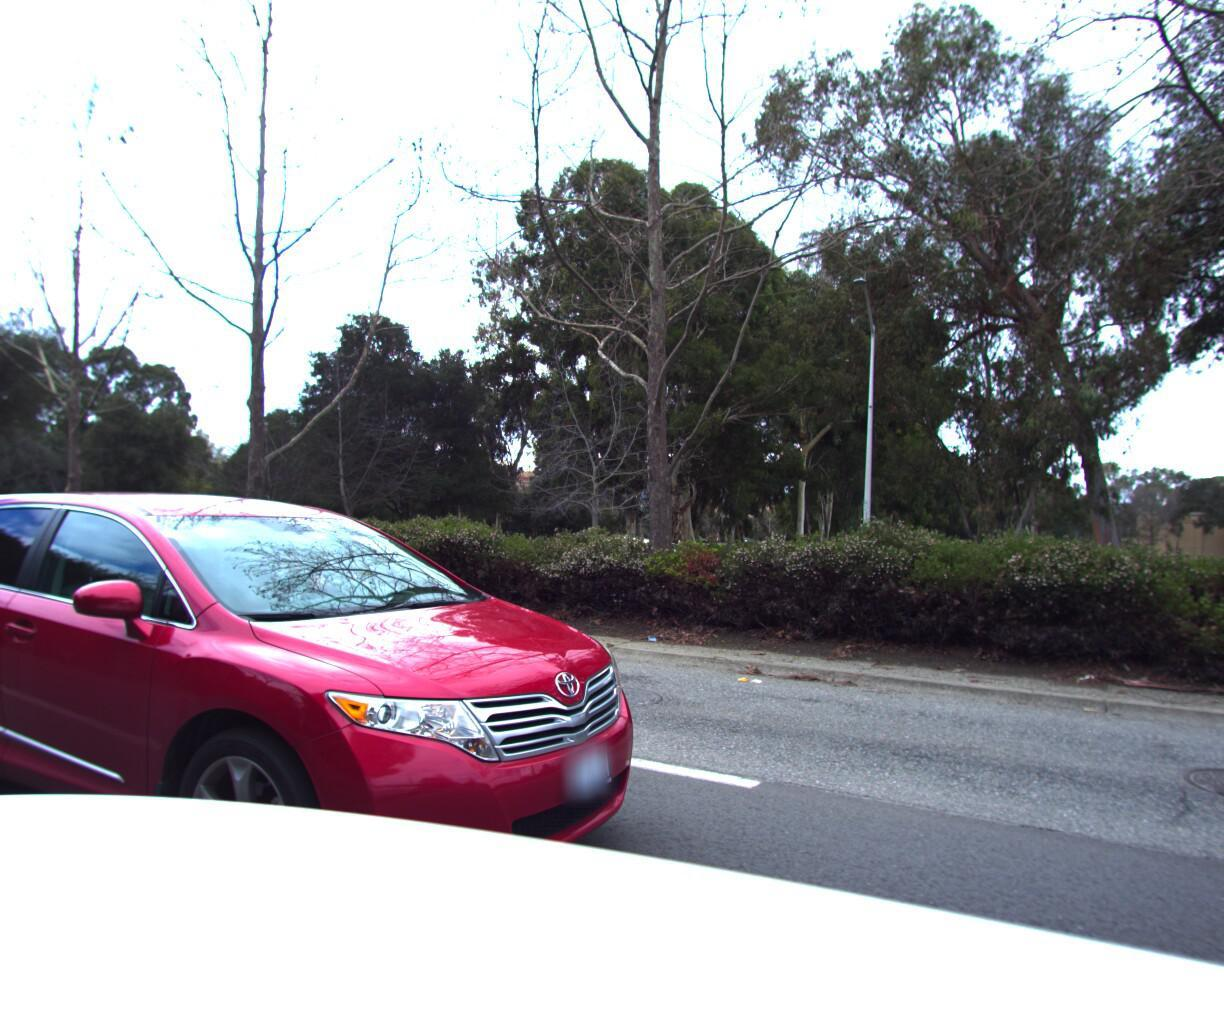car: (0, 473, 689, 1024)
